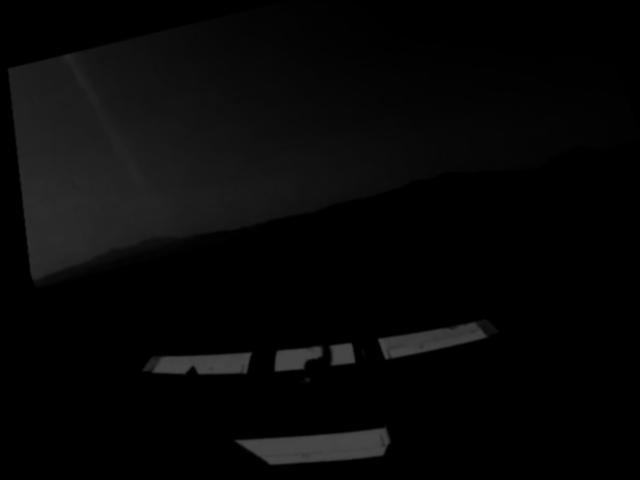hedef: (101, 235, 534, 480)
